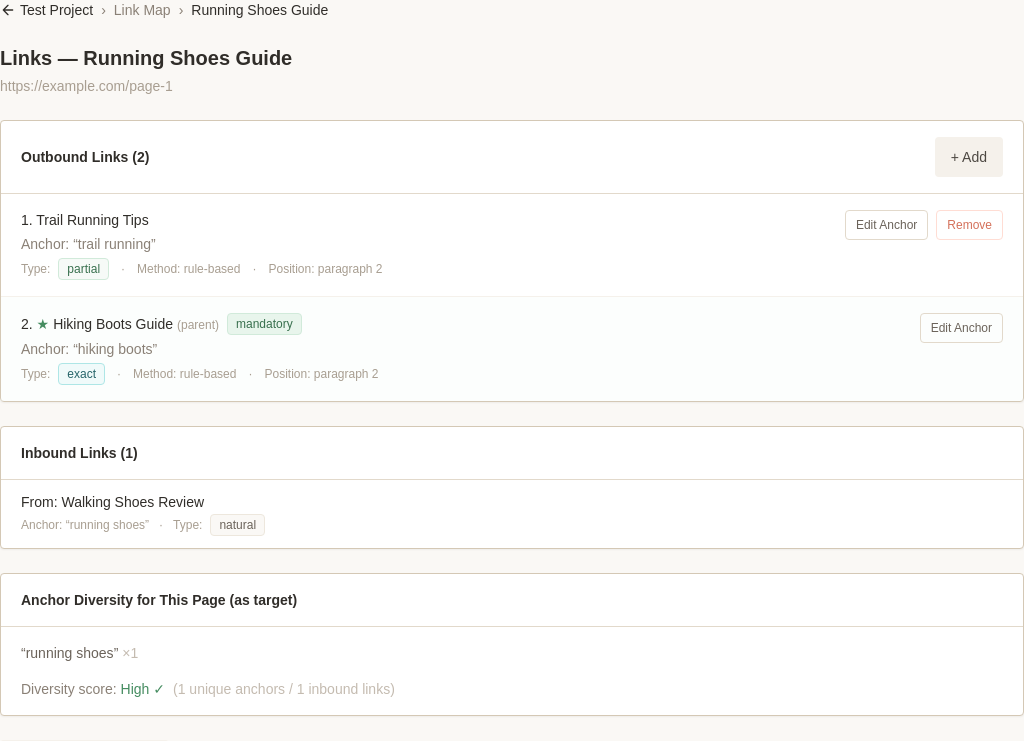
Test case: PageLinkDetailPage › Add Link modal › validates target page is required
This screenshot has width=1024, height=741.
Click the button "+ Add": coordinates (969, 157) [935,137,1003,177]
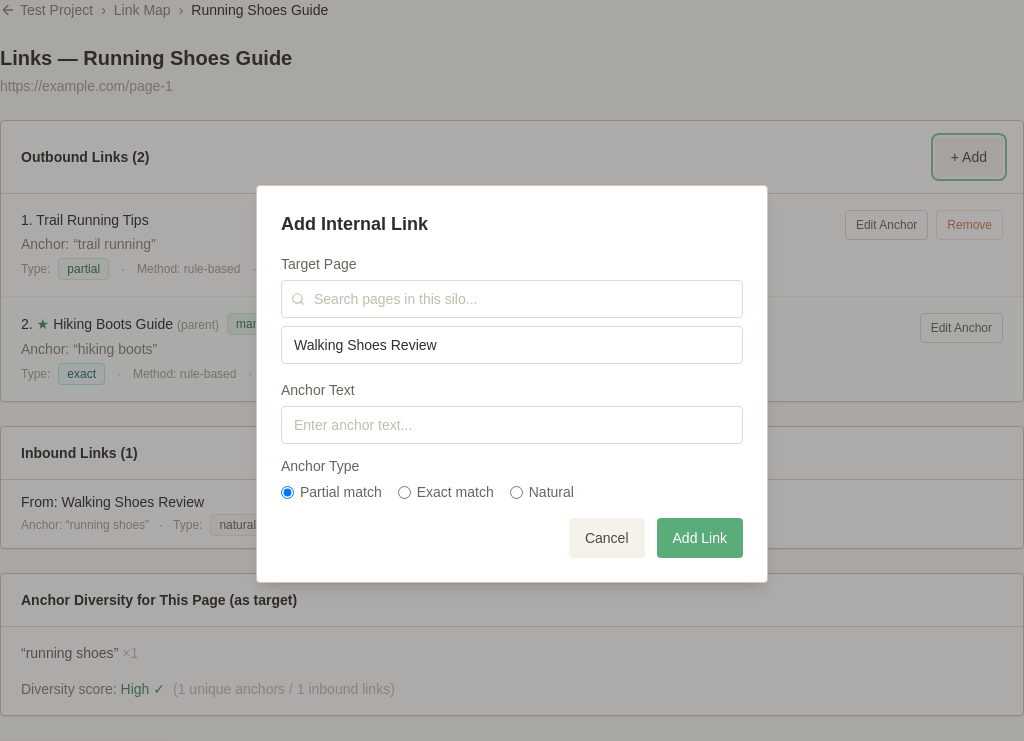
// Type anchor text but don't select target
In the field with placeholder "Enter anchor text...": coordinates (512, 425) [281,406,743,444], type "some anchor"
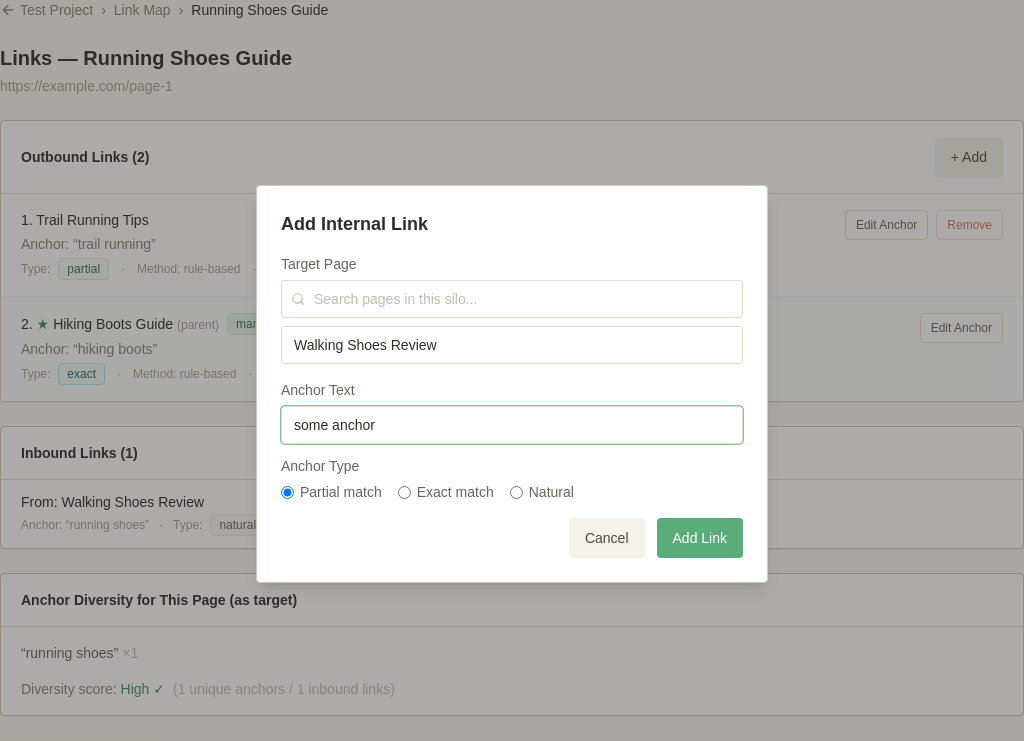
Click the button "Add Link": coordinates (700, 538) [656,518,743,558]
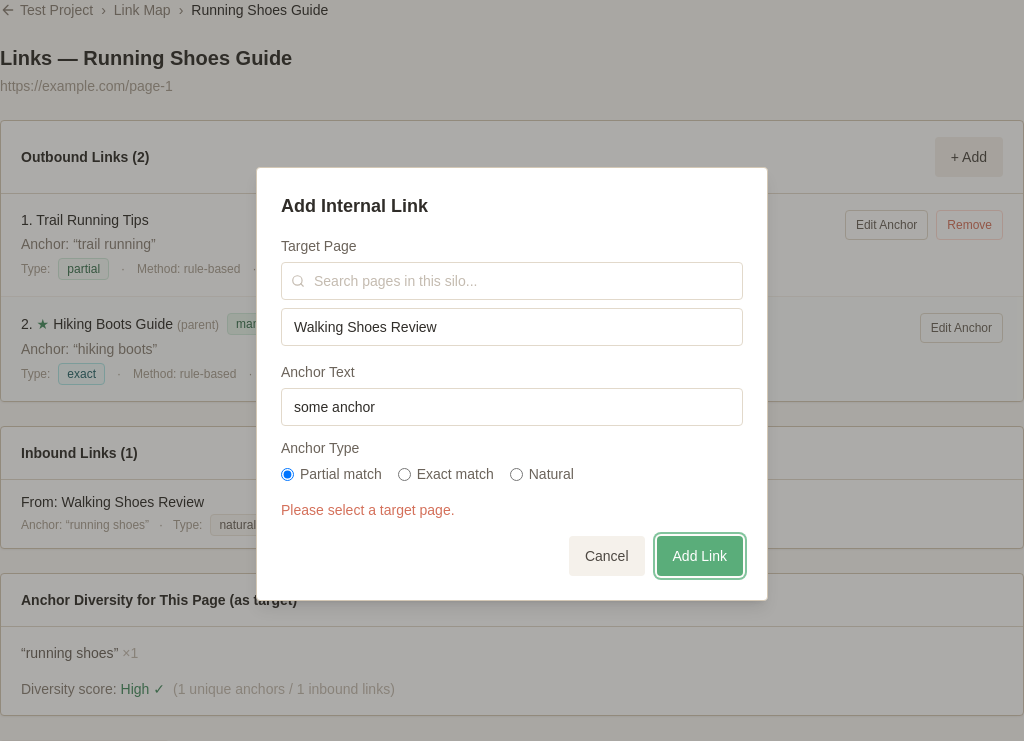
Now the text "Please select a target page." is shown, box [281,502,455,518]
